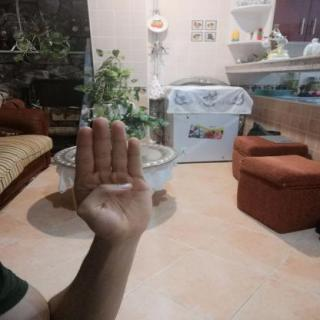KAAF: (57, 109, 171, 251)
